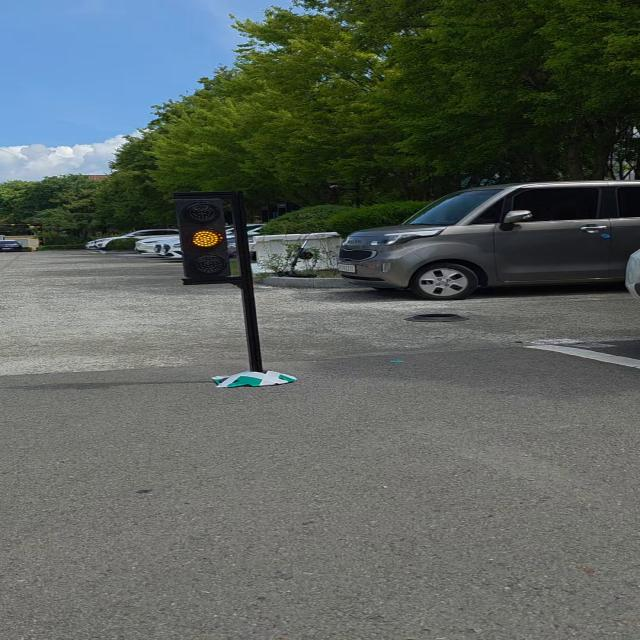yellow: (186, 197, 238, 289)
